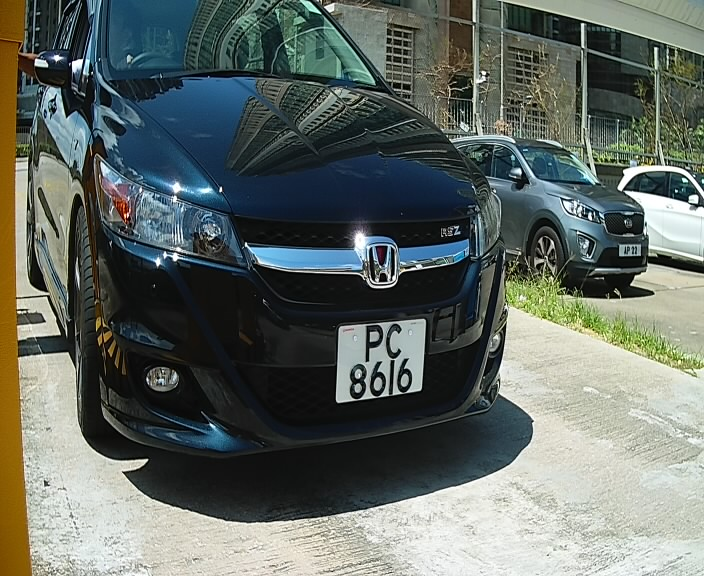Car: (32, 16, 539, 512)
License Plate: (336, 316, 432, 410)
